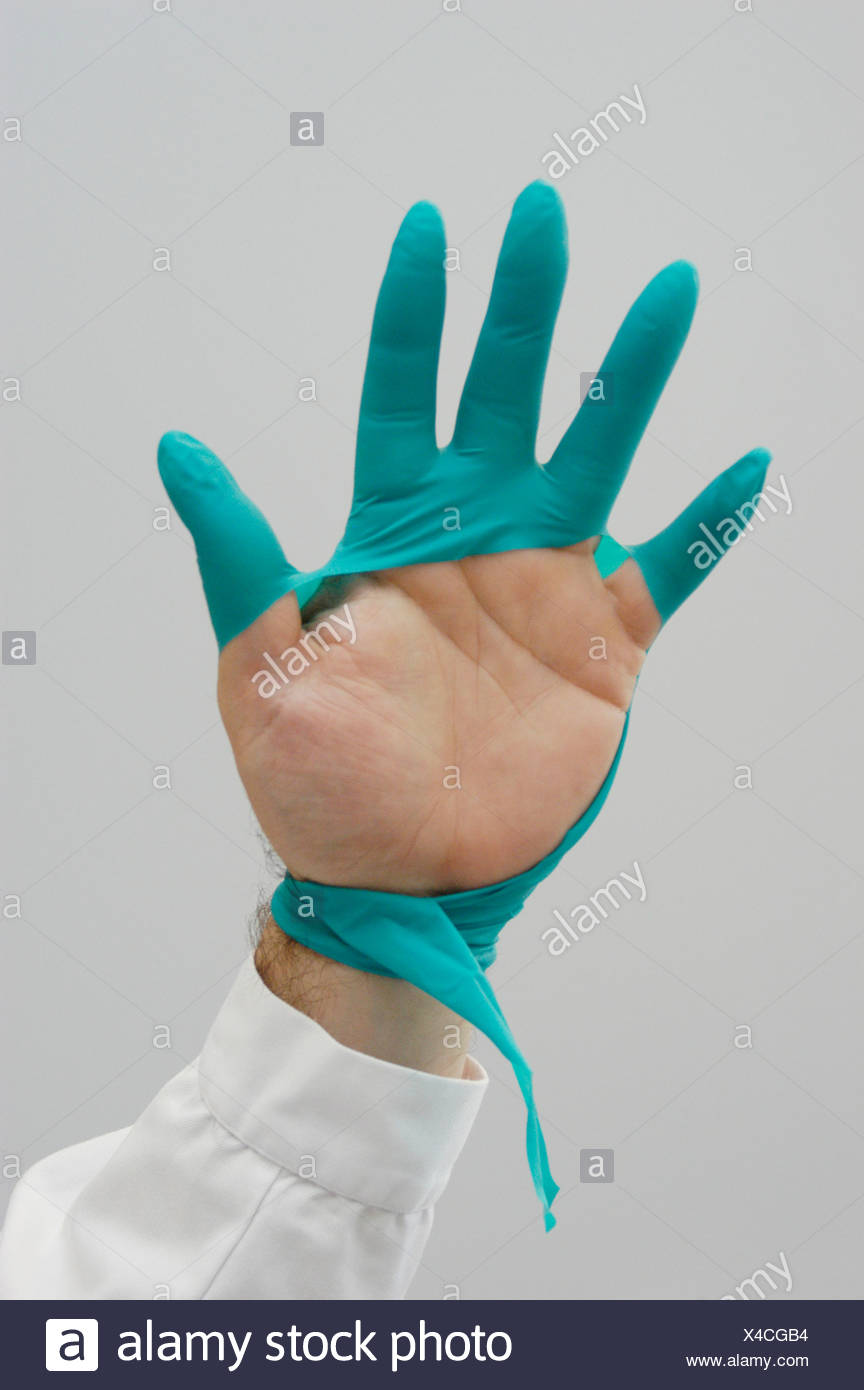defected: (83, 196, 794, 1096)
